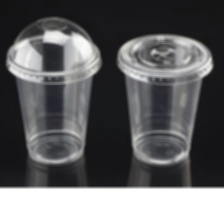glass: (1, 8, 104, 169), (117, 28, 215, 172)
